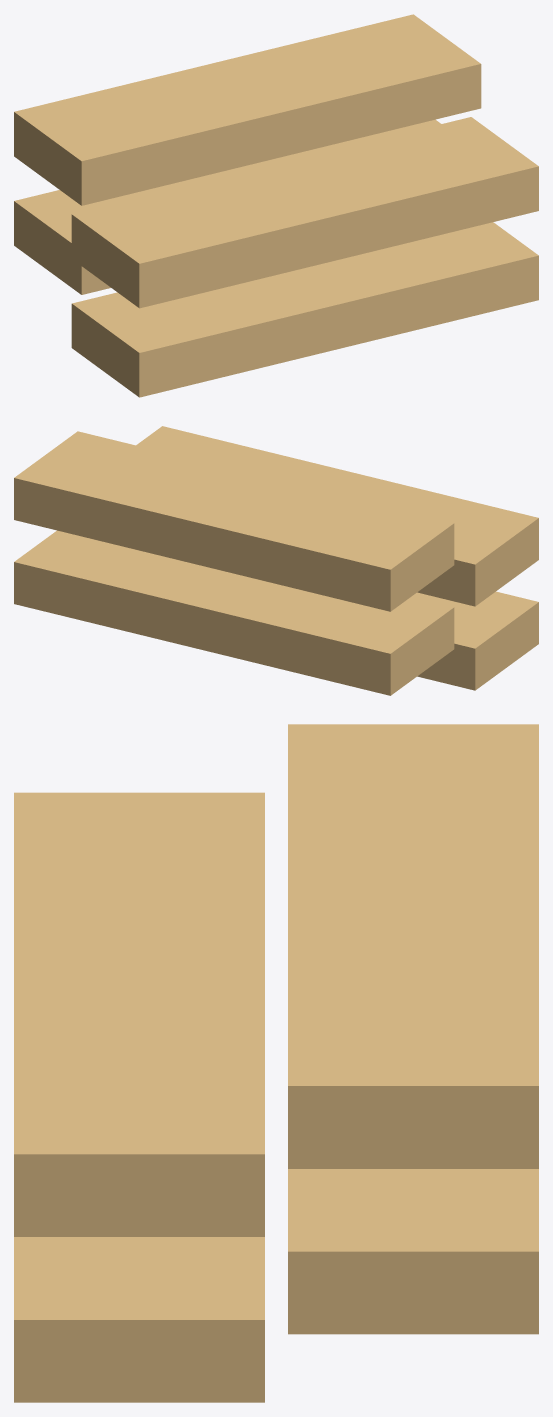
Rendered from carry_planks.fbx.
The picture shows the model from 3 angles, top to bottom: view 1: azimuth 30°, elevation 25°; view 2: azimuth 150°, elevation 25°; view 3: azimuth 270°, elevation 25°; orthographic projection. The views are drawn at different scales.
Parts seen in each view (by area): view 1: carry_planks; view 2: carry_planks; view 3: carry_planks.
Part boxes in pixels (<box>): carry_planks: <box>14,14,538,397</box>; carry_planks: <box>14,426,538,695</box>; carry_planks: <box>14,724,538,1402</box>.
Bounding box in the file's own units: 0.078 × 0.032 × 0.046.
